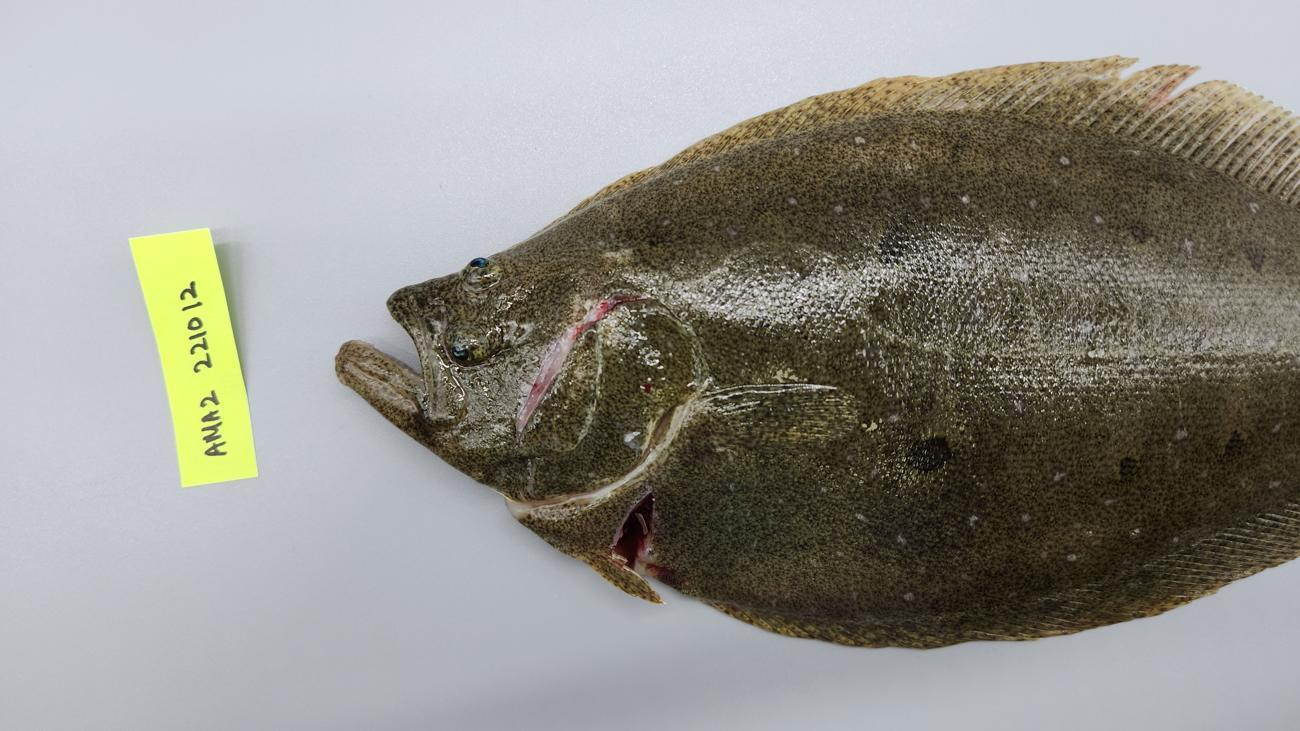MAFDH: (1042, 55, 1253, 135)
